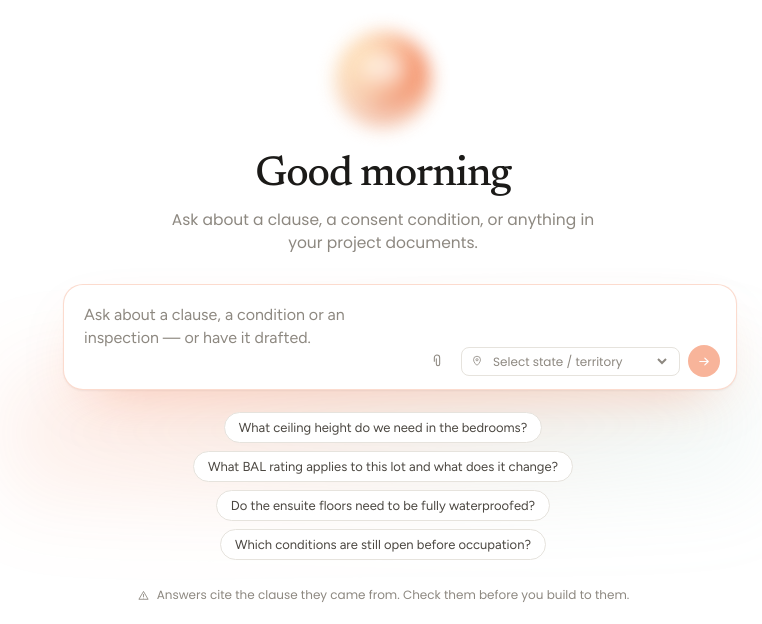
Test: HomePage › disables the send button until both a question and a jurisdiction are set
This screenshot has width=762, height=624.
expect the button named "Ask" is disabled: met, box [688,345,720,377]
Replace the text in the text box with placeholder "Ask about a clause" with "What ceiling height do we need?": (246, 339) [80,301,413,377]
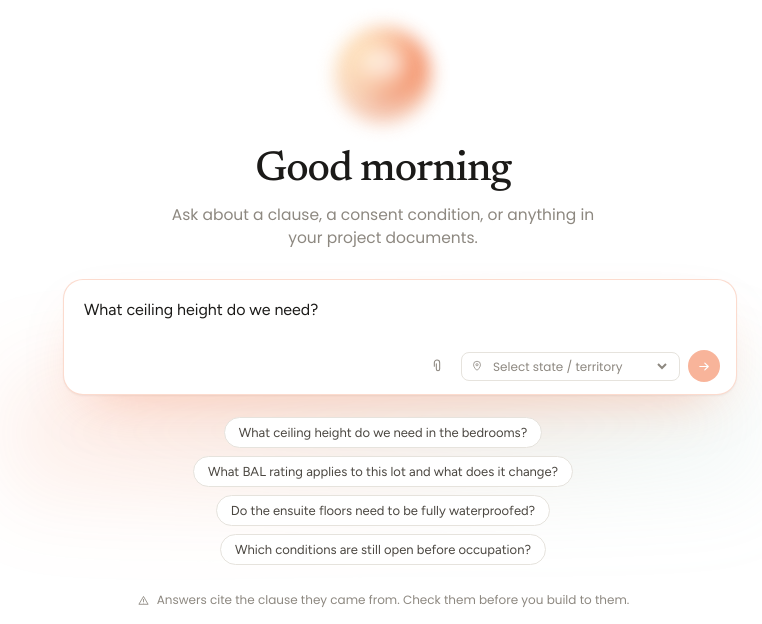
expect the button named "Ask" is disabled: met, box [688,350,720,382]
Select "New South Wales" in the dropdown named "Jurisdiction for this chat": (580, 366) [489,357,670,376]
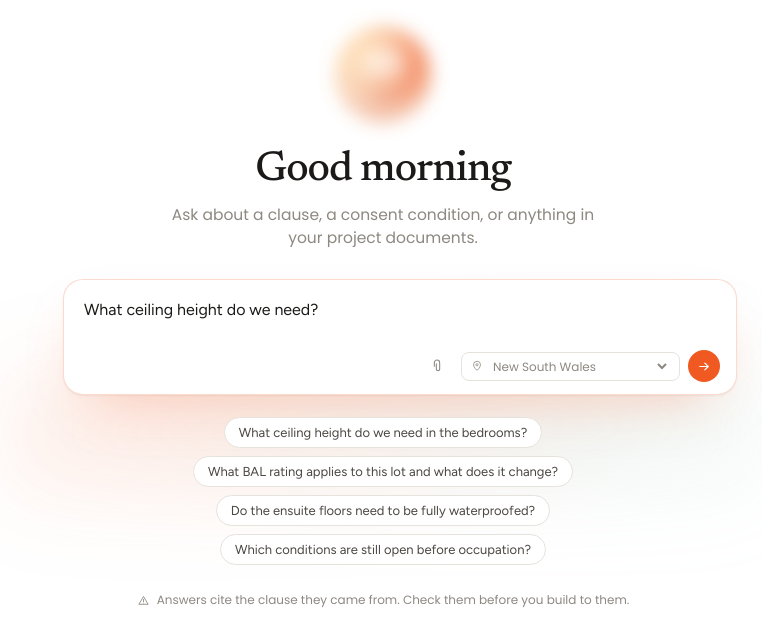
expect the button named "Ask" is enabled: met, box [688,350,720,382]
